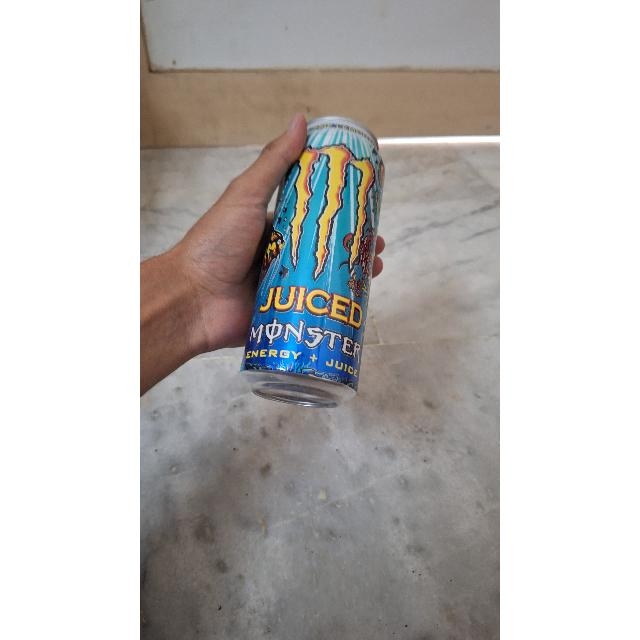Monster Aussie Lemonade: (264, 118, 378, 408)
